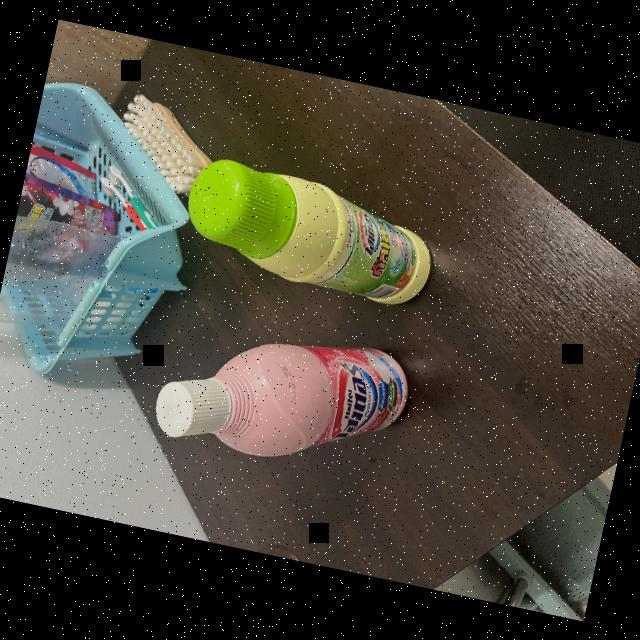chemical_plastic_bottle: (147, 304, 416, 486), (171, 145, 448, 315)
